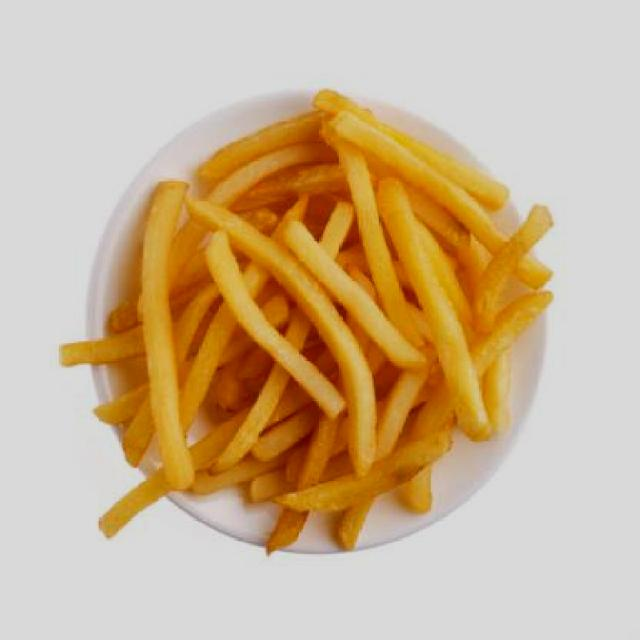fries: (60, 90, 557, 558)
